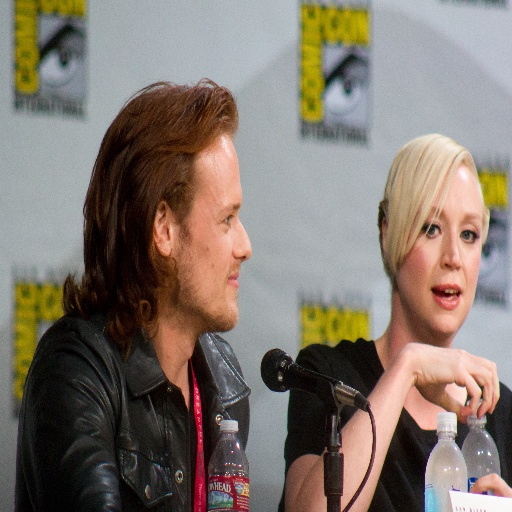hand: (411, 342, 490, 424), (468, 472, 511, 496)
